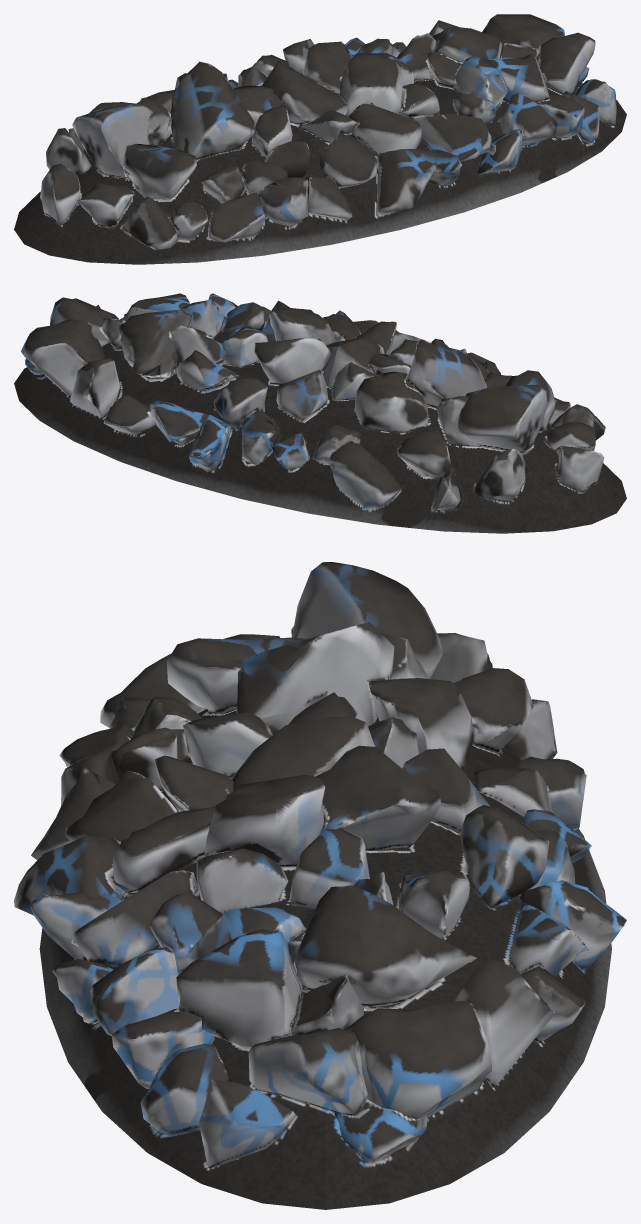
Rendered from SM_Camp_OreStar.fbx.
3 renders of one model, top to bottom at view 1: azimuth 30°, elevation 25°; view 2: azimuth 150°, elevation 25°; view 3: azimuth 270°, elevation 25°, orthographic. The views are drawn at different scales.
Visible parts, largest first — view 1: SM_Camp_OreStar; view 2: SM_Camp_OreStar; view 3: SM_Camp_OreStar.
Part boxes in pixels (bbox=[...]): SM_Camp_OreStar: bbox=[14, 14, 626, 264]; SM_Camp_OreStar: bbox=[14, 293, 626, 533]; SM_Camp_OreStar: bbox=[14, 562, 626, 1209].
Bounding box in the file's own units: 164 × 81.4 × 33.88.
